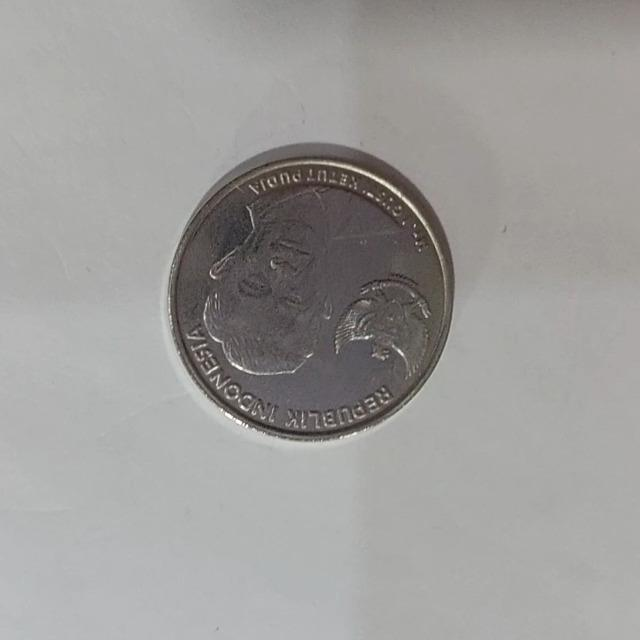Rp100: (164, 142, 455, 443)
